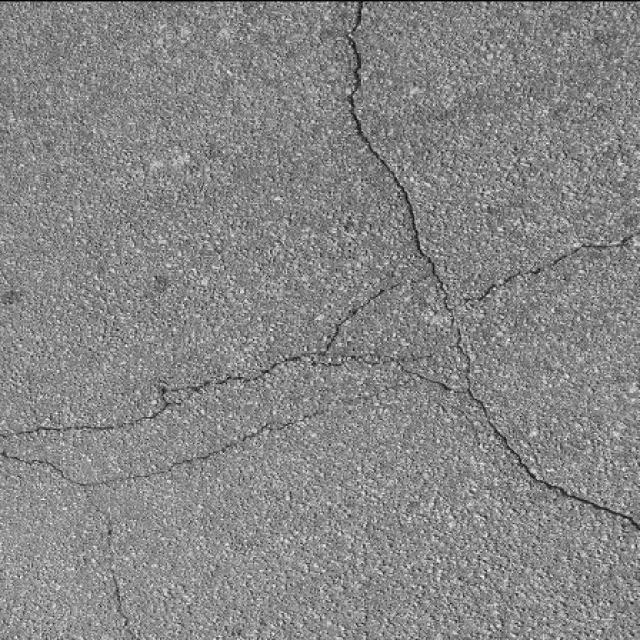Crack: (4, 0, 639, 629)
